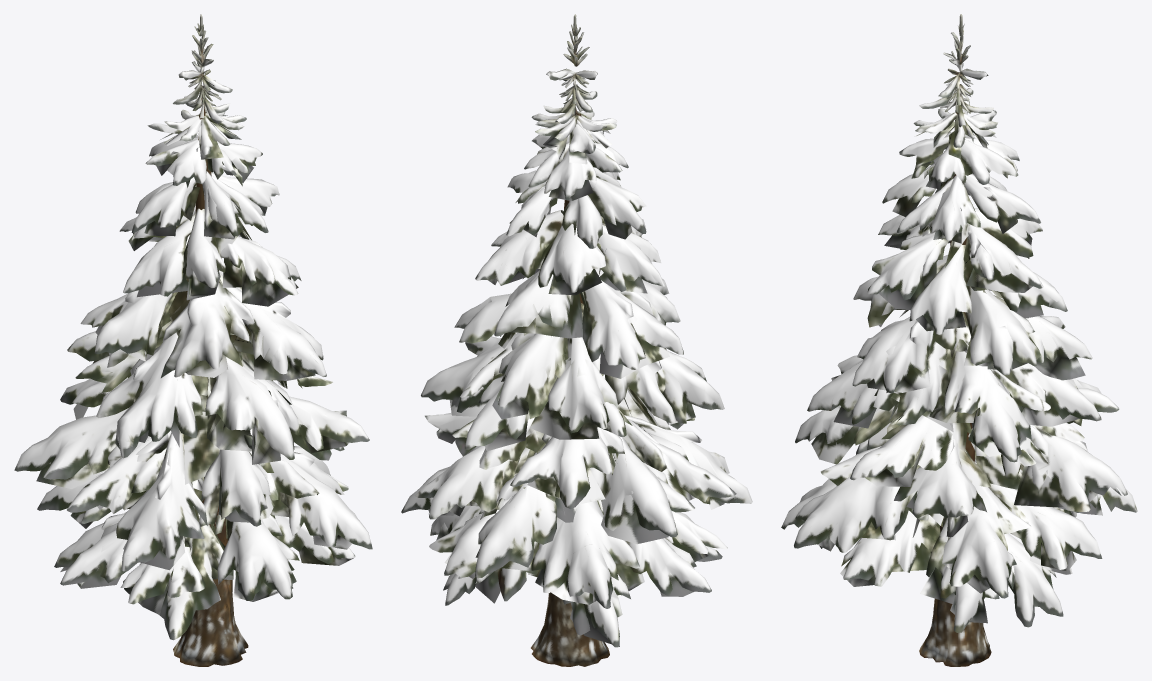
Rendered from frost_0.glb.
3 renders of one model, left to right at view 1: azimuth 30°, elevation 25°; view 2: azimuth 150°, elevation 25°; view 3: azimuth 270°, elevation 25°, orthographic.
Visible parts, largest first — view 1: geometry_0; view 2: geometry_0; view 3: geometry_0.
Part boxes in pixels (box(x1,y1,x2,y2)): geometry_0: box(14, 14, 372, 666); geometry_0: box(401, 14, 752, 666); geometry_0: box(781, 14, 1137, 666).
Size of the model in its own units: 0.4648 by 0.9512 by 0.4858.
1 material, 1 textured.
